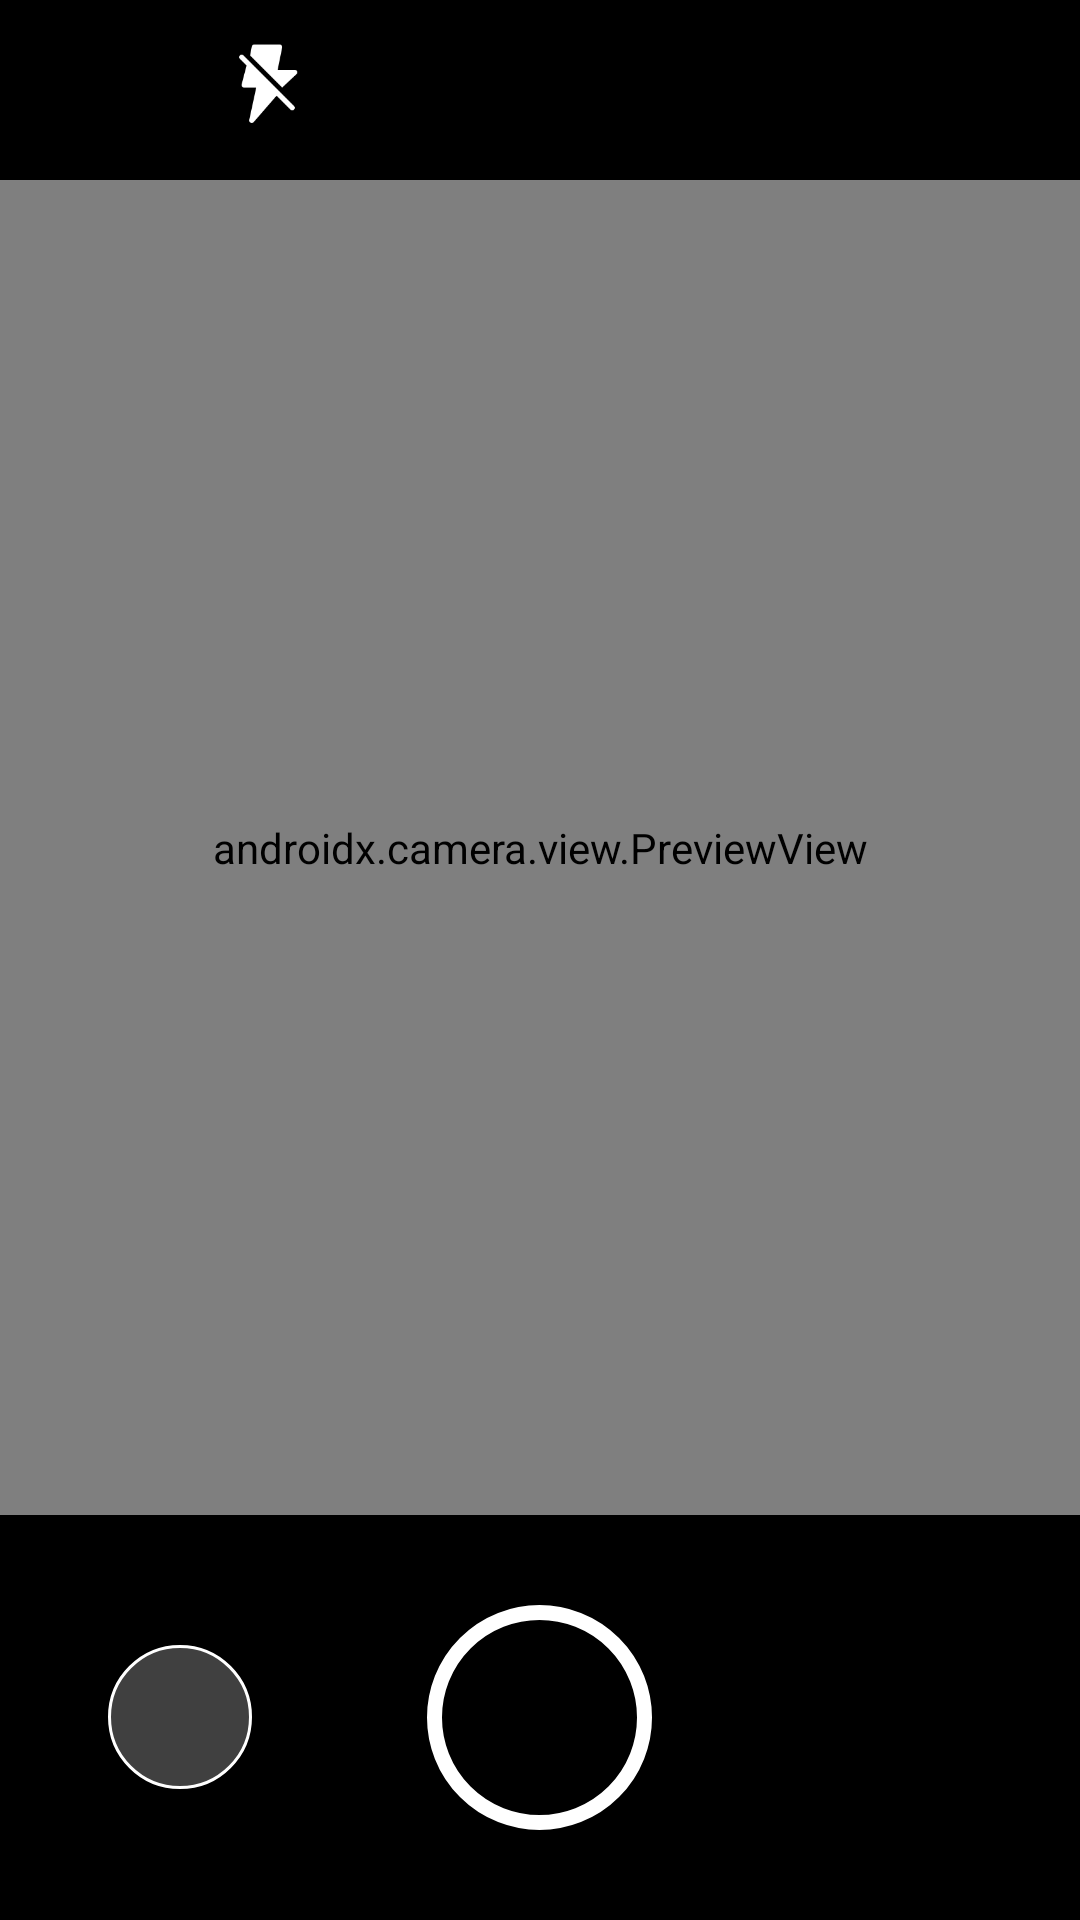

Screen size 1080w x 1920h. Icon name, then its center in pixels as [x,y]:
flash off: [268,83]
